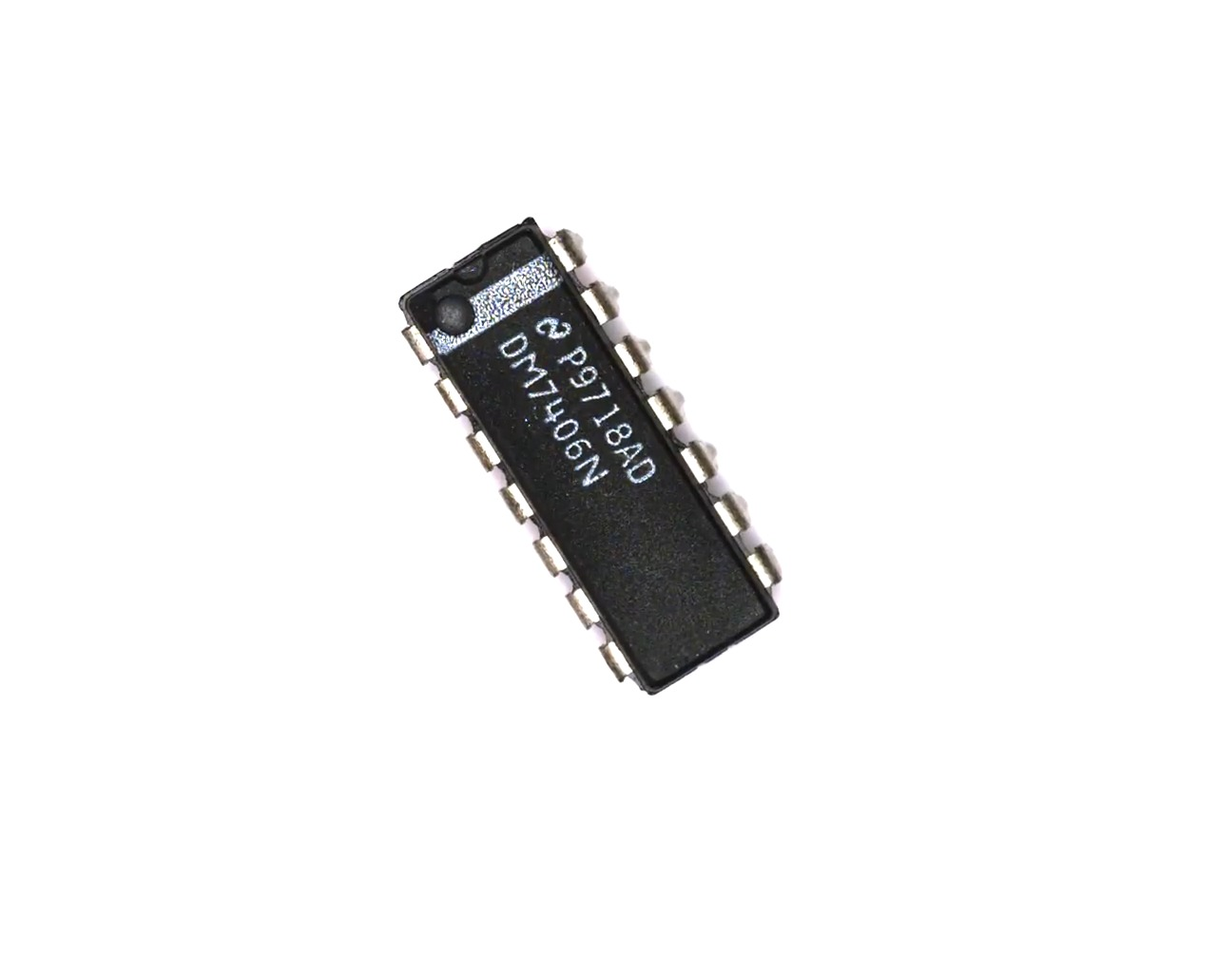IC: (370, 188, 823, 716)
notch: (448, 246, 493, 289)
